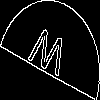W: (25, 25, 69, 86)
